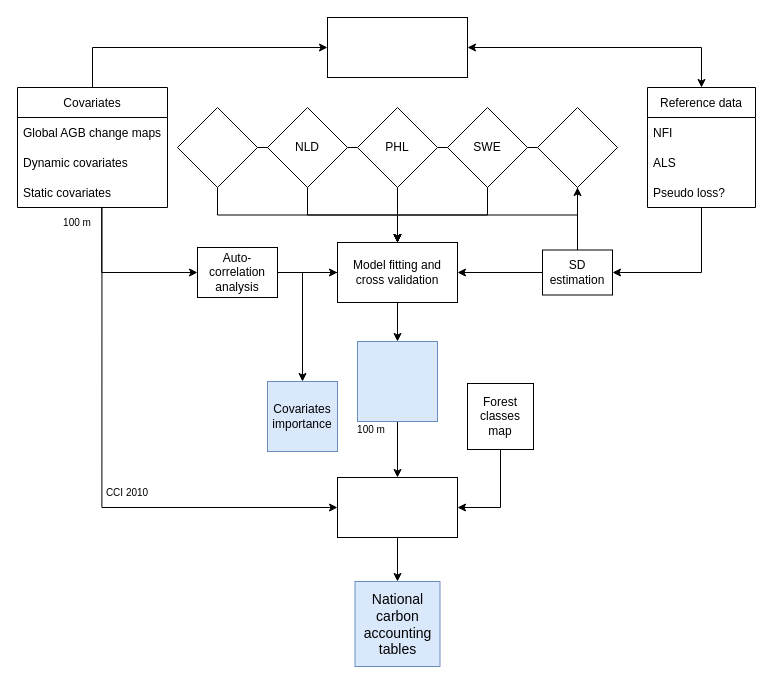
The diagram is 773 pixels wide and 684 high, and some of its shapes have lost their labels. The centre of each missing label's shape, as x and y in pixels:
"AGB change map with SD layer" belongs at [397,381].
"BRA" belongs at [217,147].
"Feature space and under-sampled areas analysis" belongs at [397,47].
"Pixel to forest class aggregation" belongs at [397,507].
"USA" belongs at [577,147].
